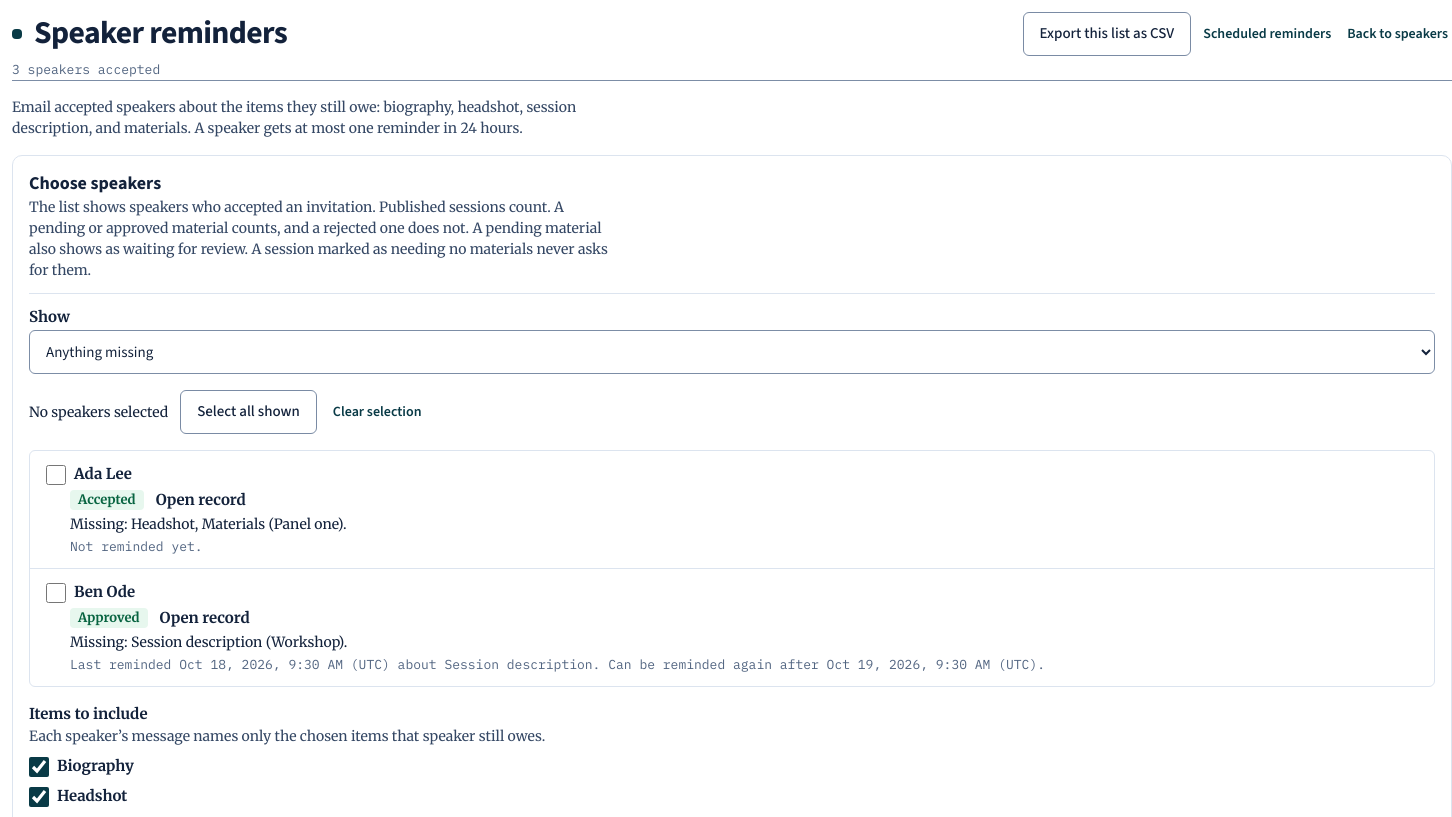
Test case: speaker reminders list › exports the group on screen and says where the file went
Expected: the list named "Accepted speakers" is shown, [29,450,1435,687]
What coordinates should you click on to do the following:
click the button "Export this list as CSV"
I would click on:
 (1107, 34)
Its box is [1023,12,1191,56].
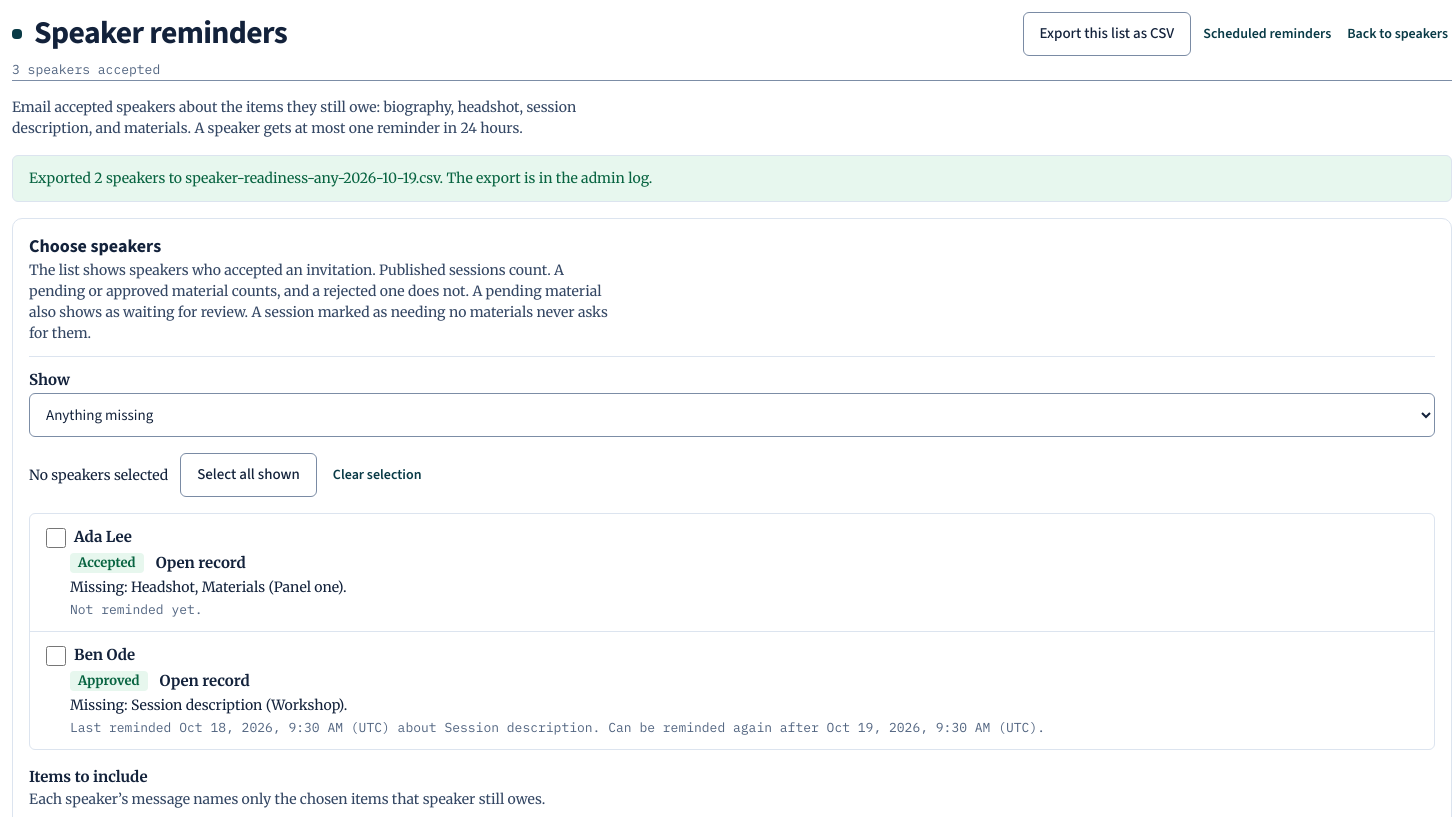
Result: the text "Exported 2 speakers to speaker-readiness-any-2026-10-19.csv" is shown at [29,168,652,186]
